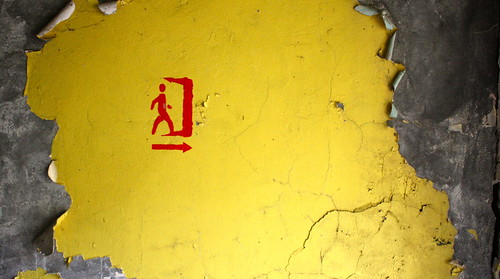graffiti: (136, 60, 207, 169)
wall: (1, 1, 498, 277)
